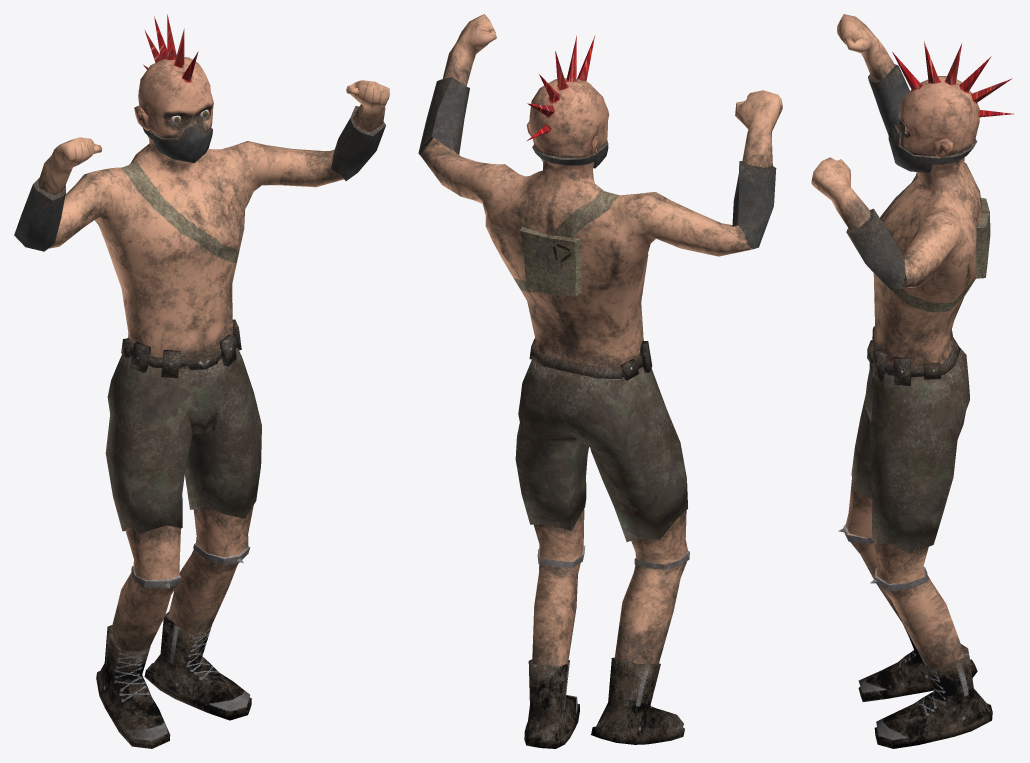
Rendered from Anim_ganar_1_npc2.0017.obj.
The picture shows the model from 3 angles, left to right: view 1: azimuth 30°, elevation 25°; view 2: azimuth 150°, elevation 25°; view 3: azimuth 270°, elevation 25°; orthographic projection. The views are drawn at different scales.
Visible parts, largest first — view 1: polySurface1; view 2: polySurface1; view 3: polySurface1.
Boxes of the visible parts, bbox=[...] form: polySurface1: bbox=[14, 14, 389, 748]; polySurface1: bbox=[418, 14, 782, 748]; polySurface1: bbox=[811, 14, 1013, 748].
Bounding box in the file's own units: 5.24 × 10.05 × 2.72.
